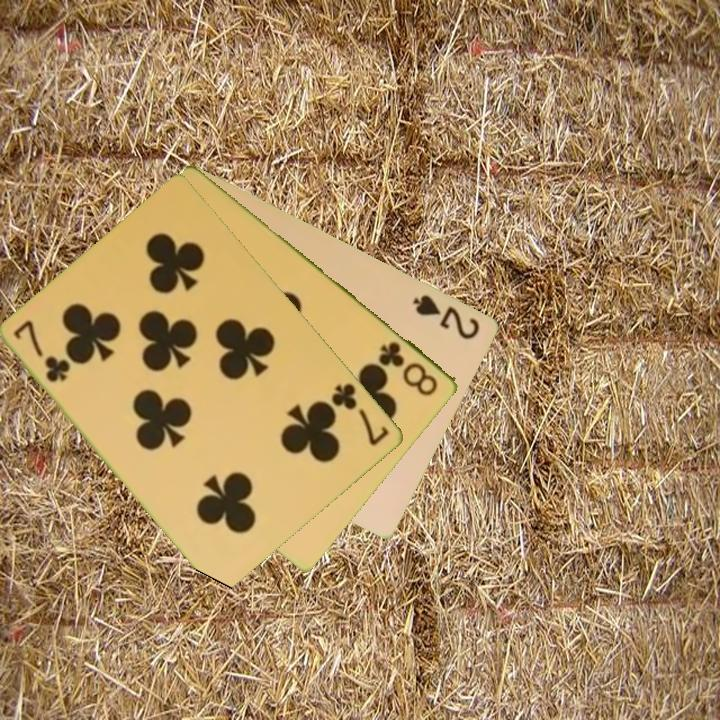2s: (410, 290, 484, 343)
7c: (328, 379, 393, 449), (10, 316, 74, 386)
8c: (375, 337, 442, 399)
